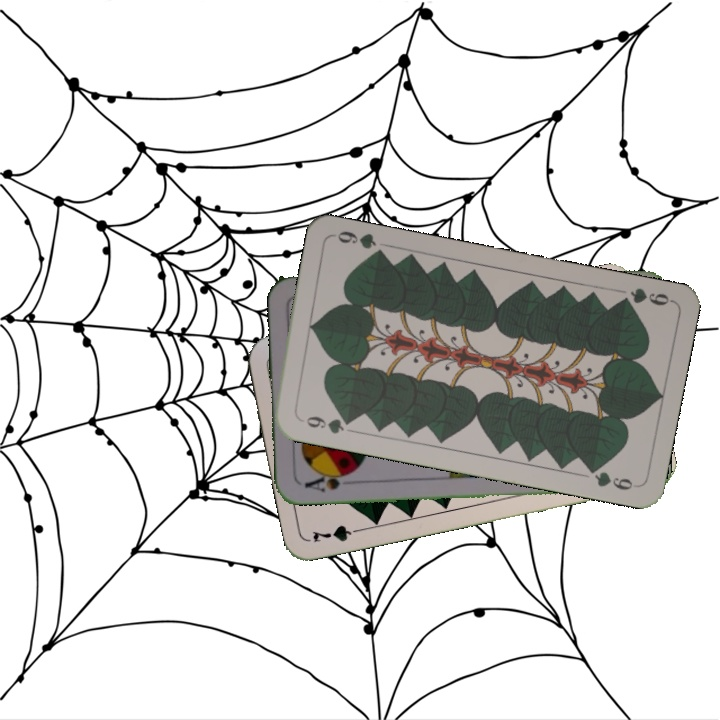G7: (308, 520, 367, 545)
G9: (613, 283, 674, 309), (295, 412, 355, 437)
SA: (301, 468, 355, 495)
